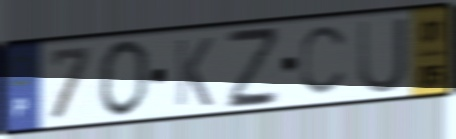7: (48, 43, 94, 124)
C: (298, 22, 351, 100)
K: (173, 35, 215, 109)
O: (96, 37, 153, 120)
U: (355, 14, 409, 97)
Z: (224, 27, 283, 113)
